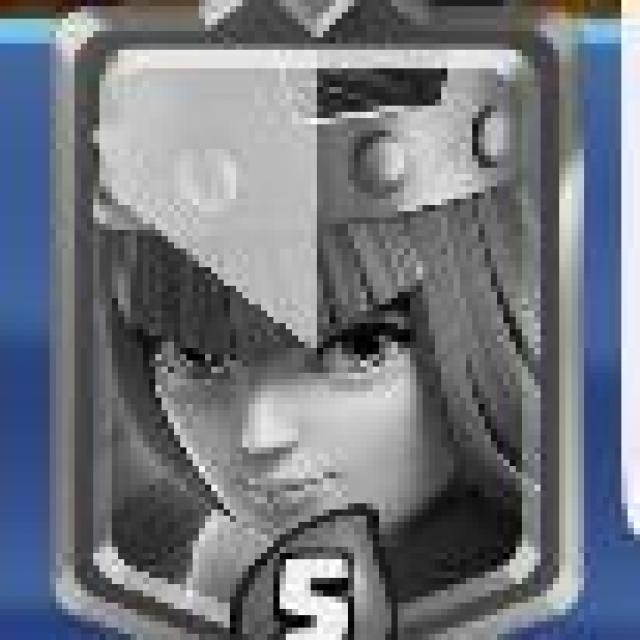Archer_Queen: (48, 0, 593, 640)
